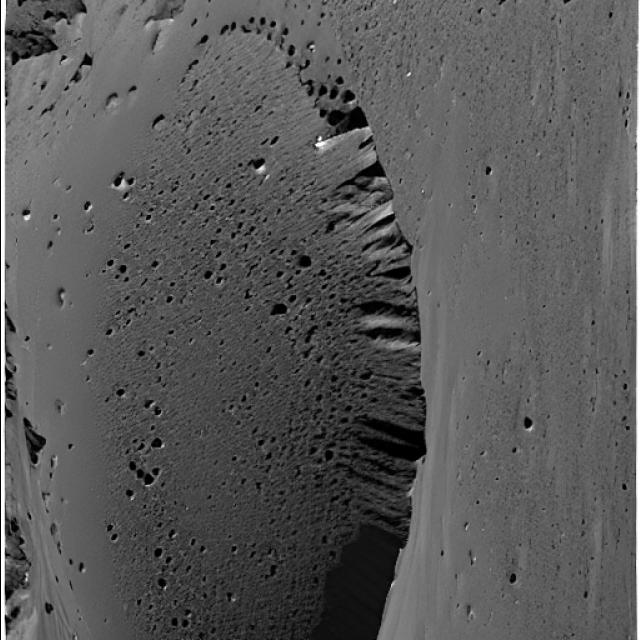crater: (0, 22, 428, 640)
